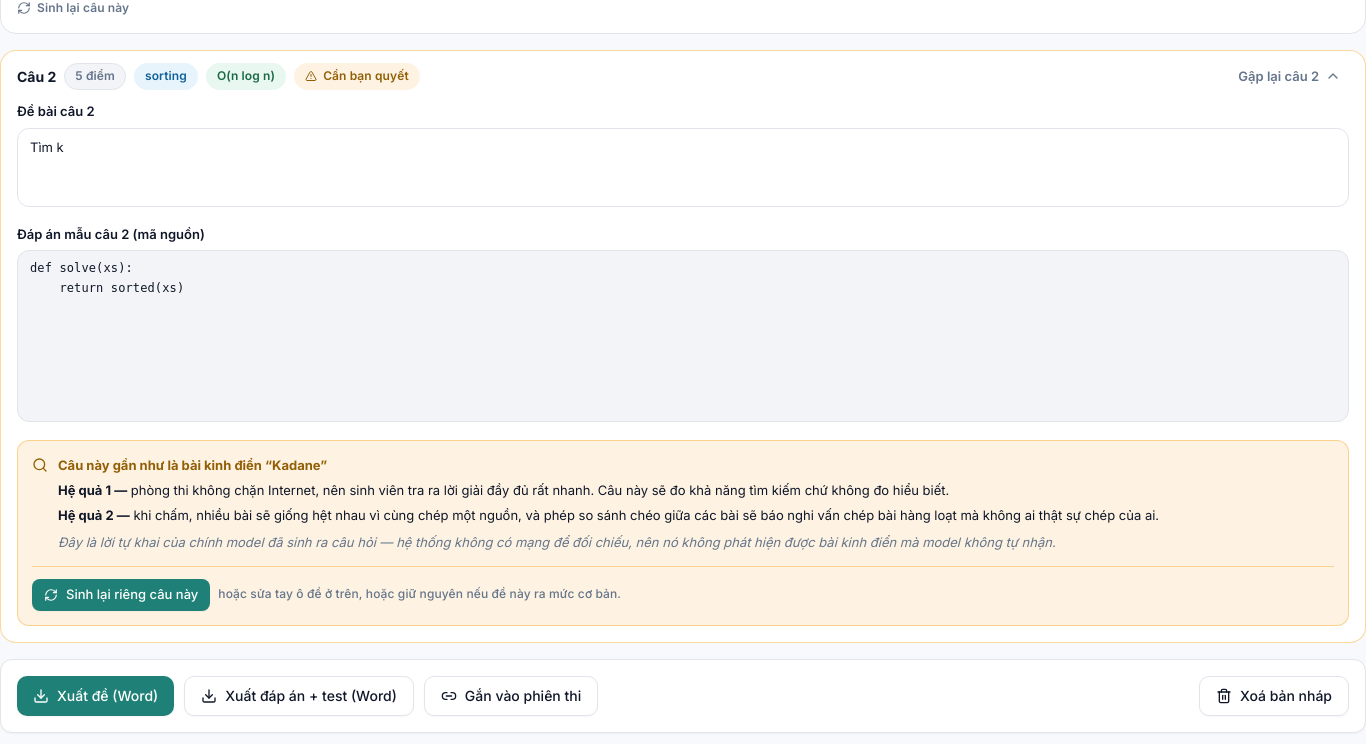
Scenario: ExamAuthoringPage › nút sinh lại bị KHOÁ tới khi có ghi chú đổi gì
(page scrolled)
Expected: the text box showing "Tìm k" is shown, [17, 128, 1349, 207]
Click the button "Sinh lại riêng câu này": (121, 595) [32, 579, 210, 611]
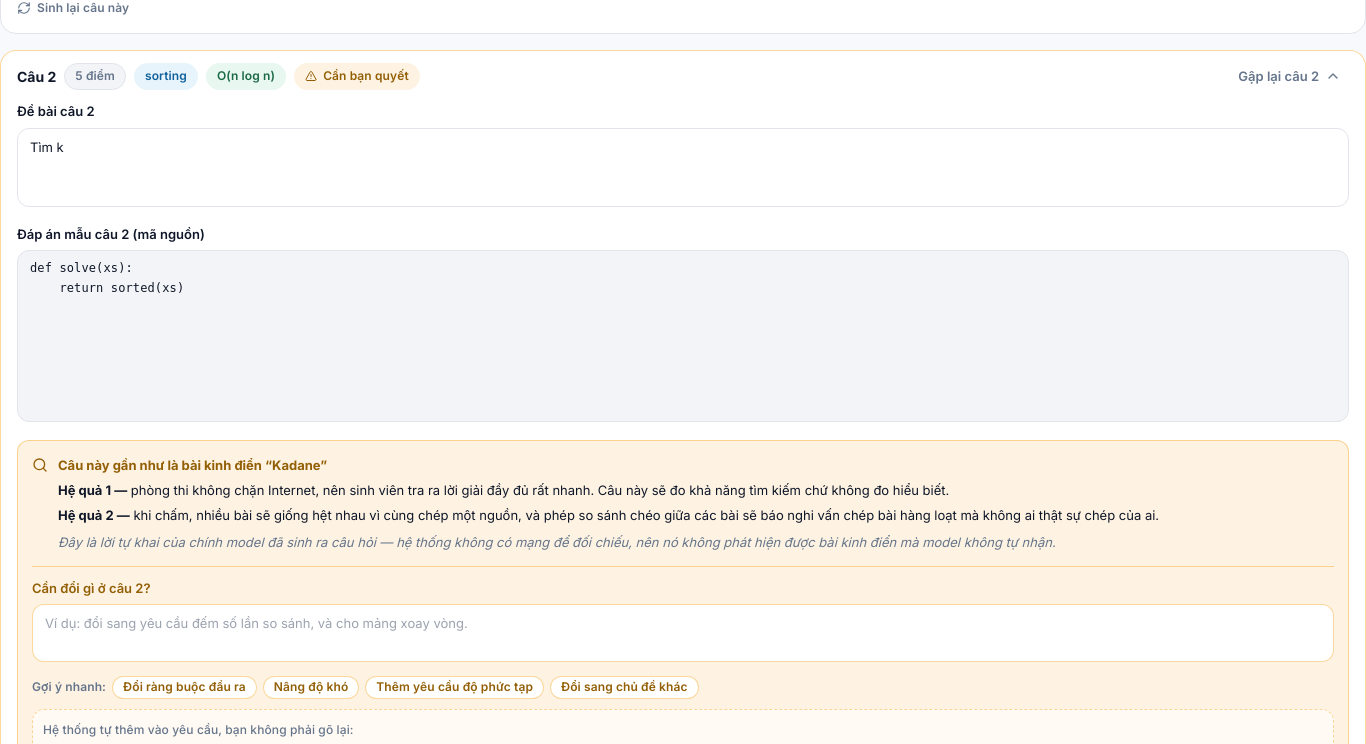
Replace the text in the text box labelled "Cần đổi gì ở câu 2?" with "đổi sang đếm số lần so sánh": (683, 633) [32, 604, 1334, 662]
(page scrolled)
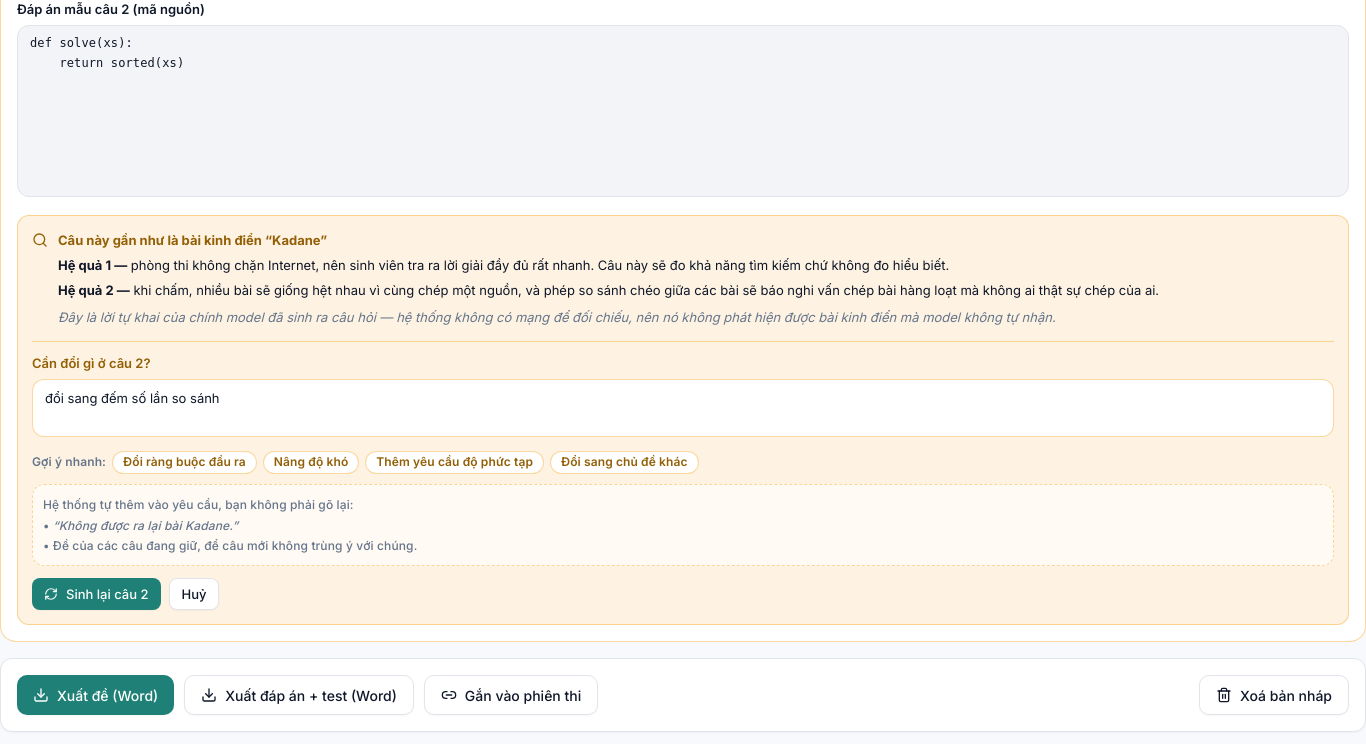
Now the button "Sinh lại câu 2" is enabled, box [32, 578, 160, 610]
